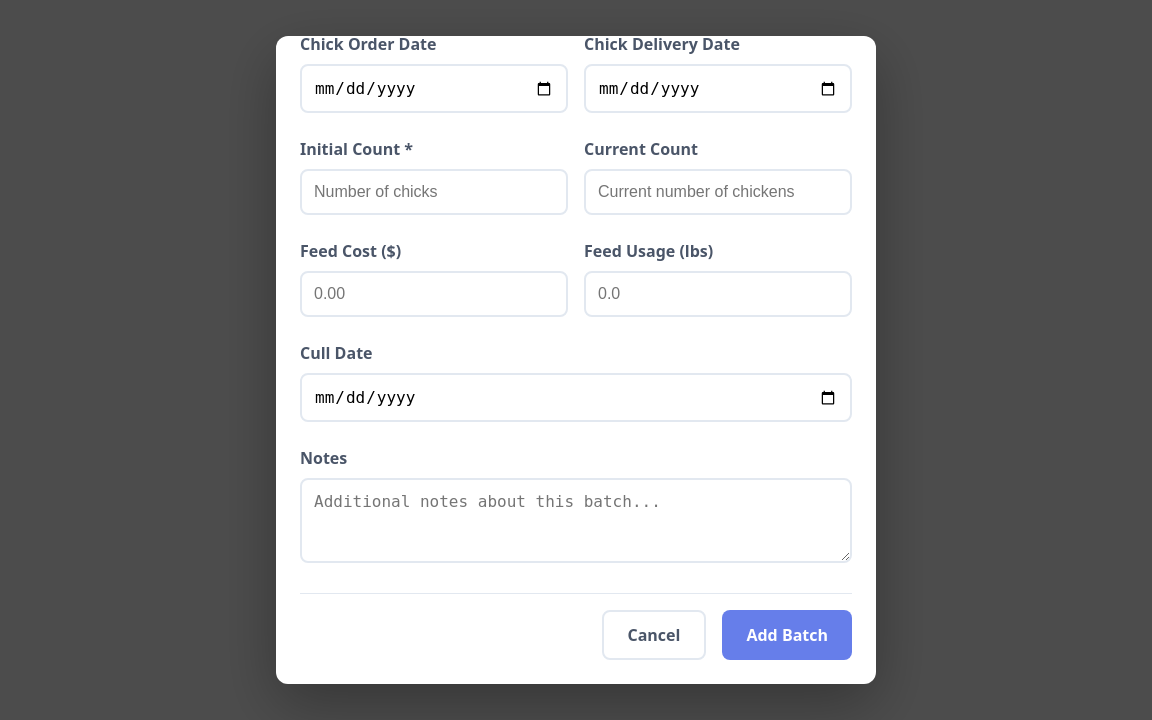
Test: ChickenForm › clears field-specific error when the field changes
(page scrolled)
# Submit empty to trigger batchName error
Click the button "Add Batch" at {"x": 787, "y": 635}, box [722,610,852,660]
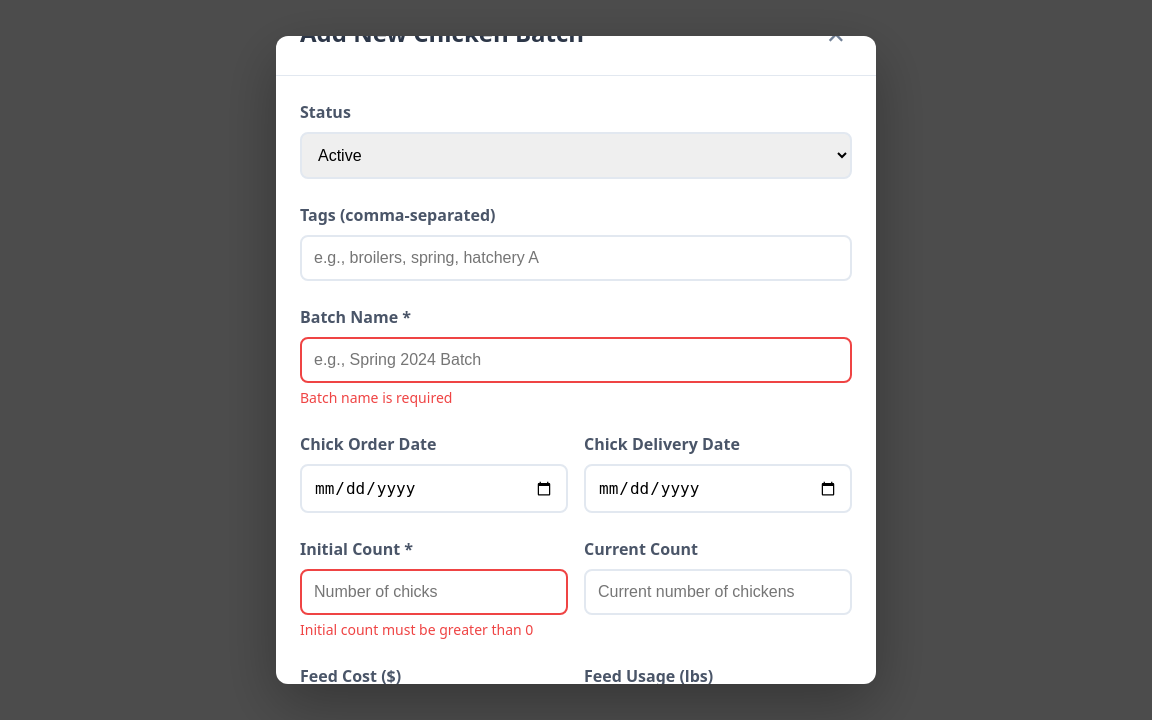
Now the text "Batch name is required" is shown, box [300,388,452,407]
# Type into batchName to clear the error
Type "Name" into the field labelled "Batch Name *" at {"x": 576, "y": 360}, box [300,337,852,383]
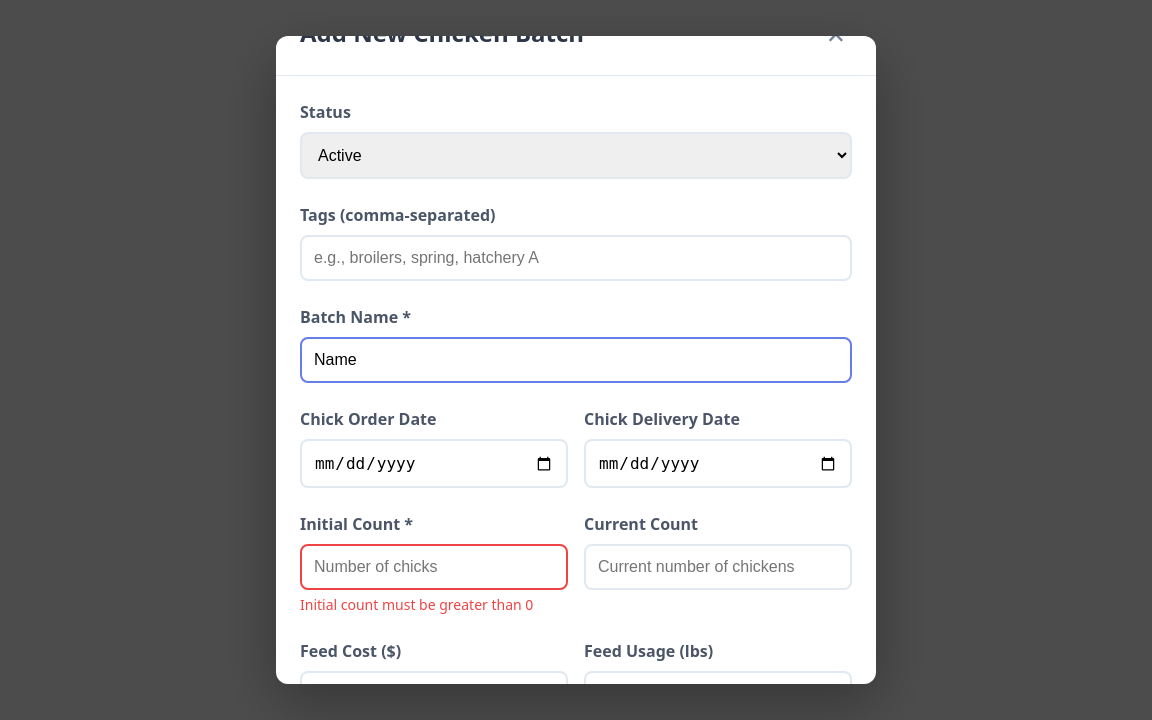
Now the text "Batch name is required" is gone
